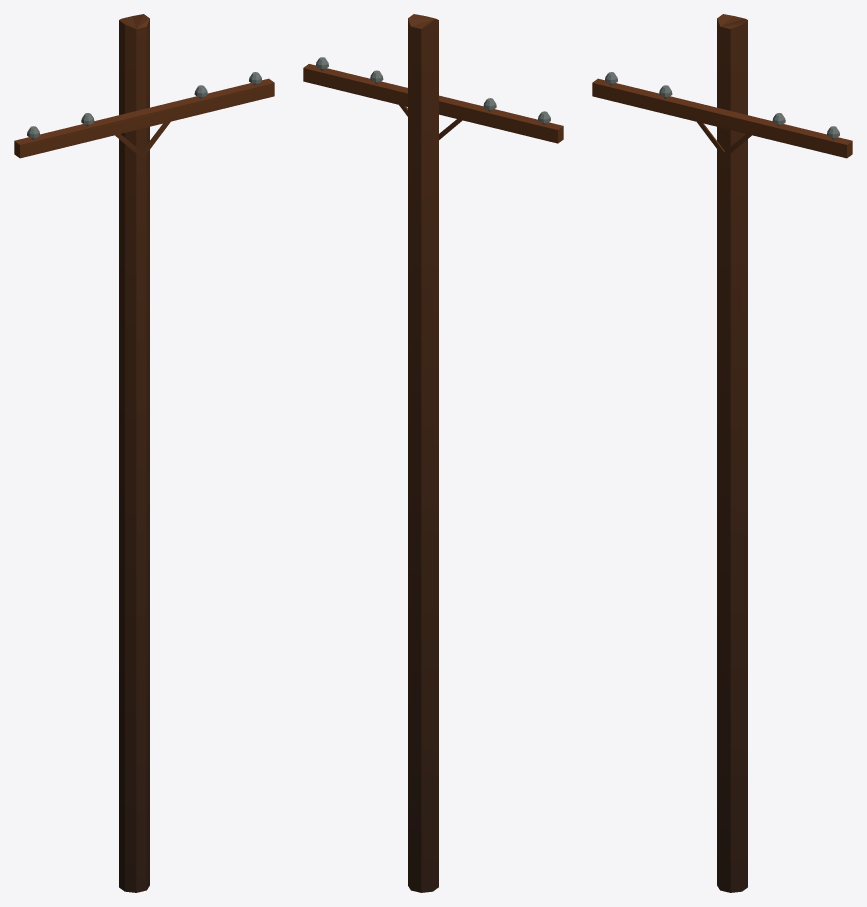
File: Bld_Power_Pole_01.obj
3 renders of one model, left to right at view 1: azimuth 30°, elevation 25°; view 2: azimuth 150°, elevation 25°; view 3: azimuth 330°, elevation 25°, orthographic.
Visible parts, largest first — view 1: Bld_Power_Pole_01; view 2: Bld_Power_Pole_01; view 3: Bld_Power_Pole_01.
Boxes of the visible parts, x1,y1,x2,y2 form: Bld_Power_Pole_01: (14, 14, 274, 892); Bld_Power_Pole_01: (303, 14, 563, 892); Bld_Power_Pole_01: (592, 14, 852, 892).
Bounding box in the file's own units: 2.15 × 7 × 0.2987.
Materials: 1 (1 with a texture image).
